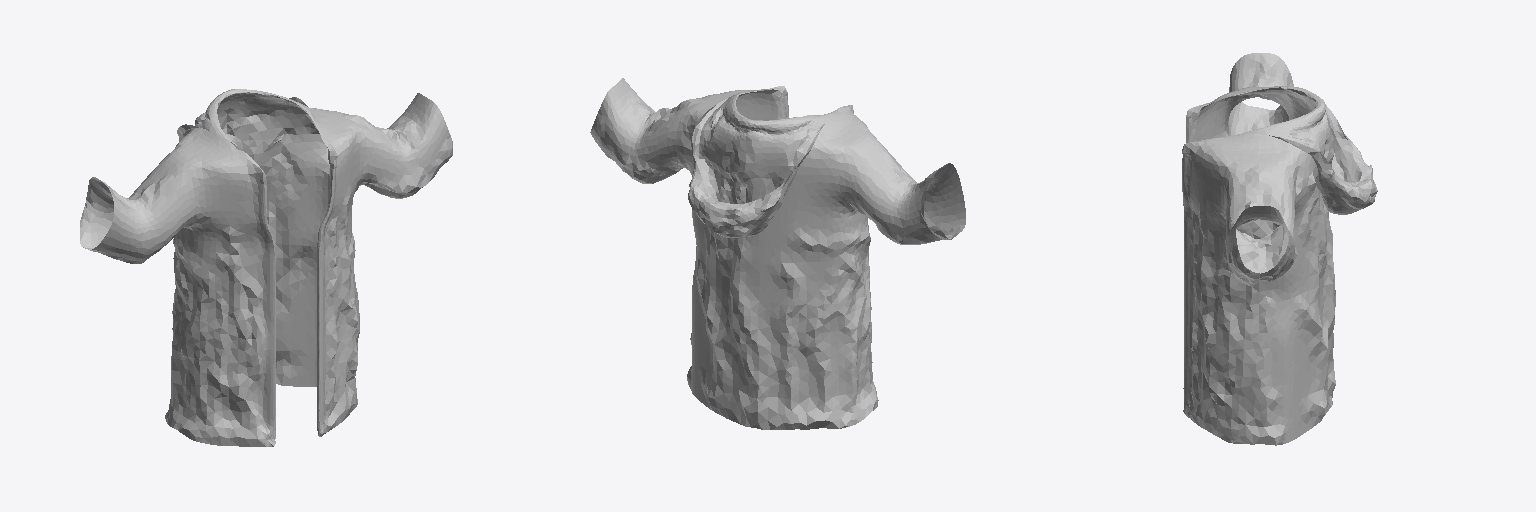
The model's file is Cloak_After_Sculp.obj.
3 renders of one model, left to right at view 1: azimuth 30°, elevation 25°; view 2: azimuth 150°, elevation 25°; view 3: azimuth 270°, elevation 25°, orthographic.
Bounding box in the file's own units: 5.11 × 4.09 × 2.38.